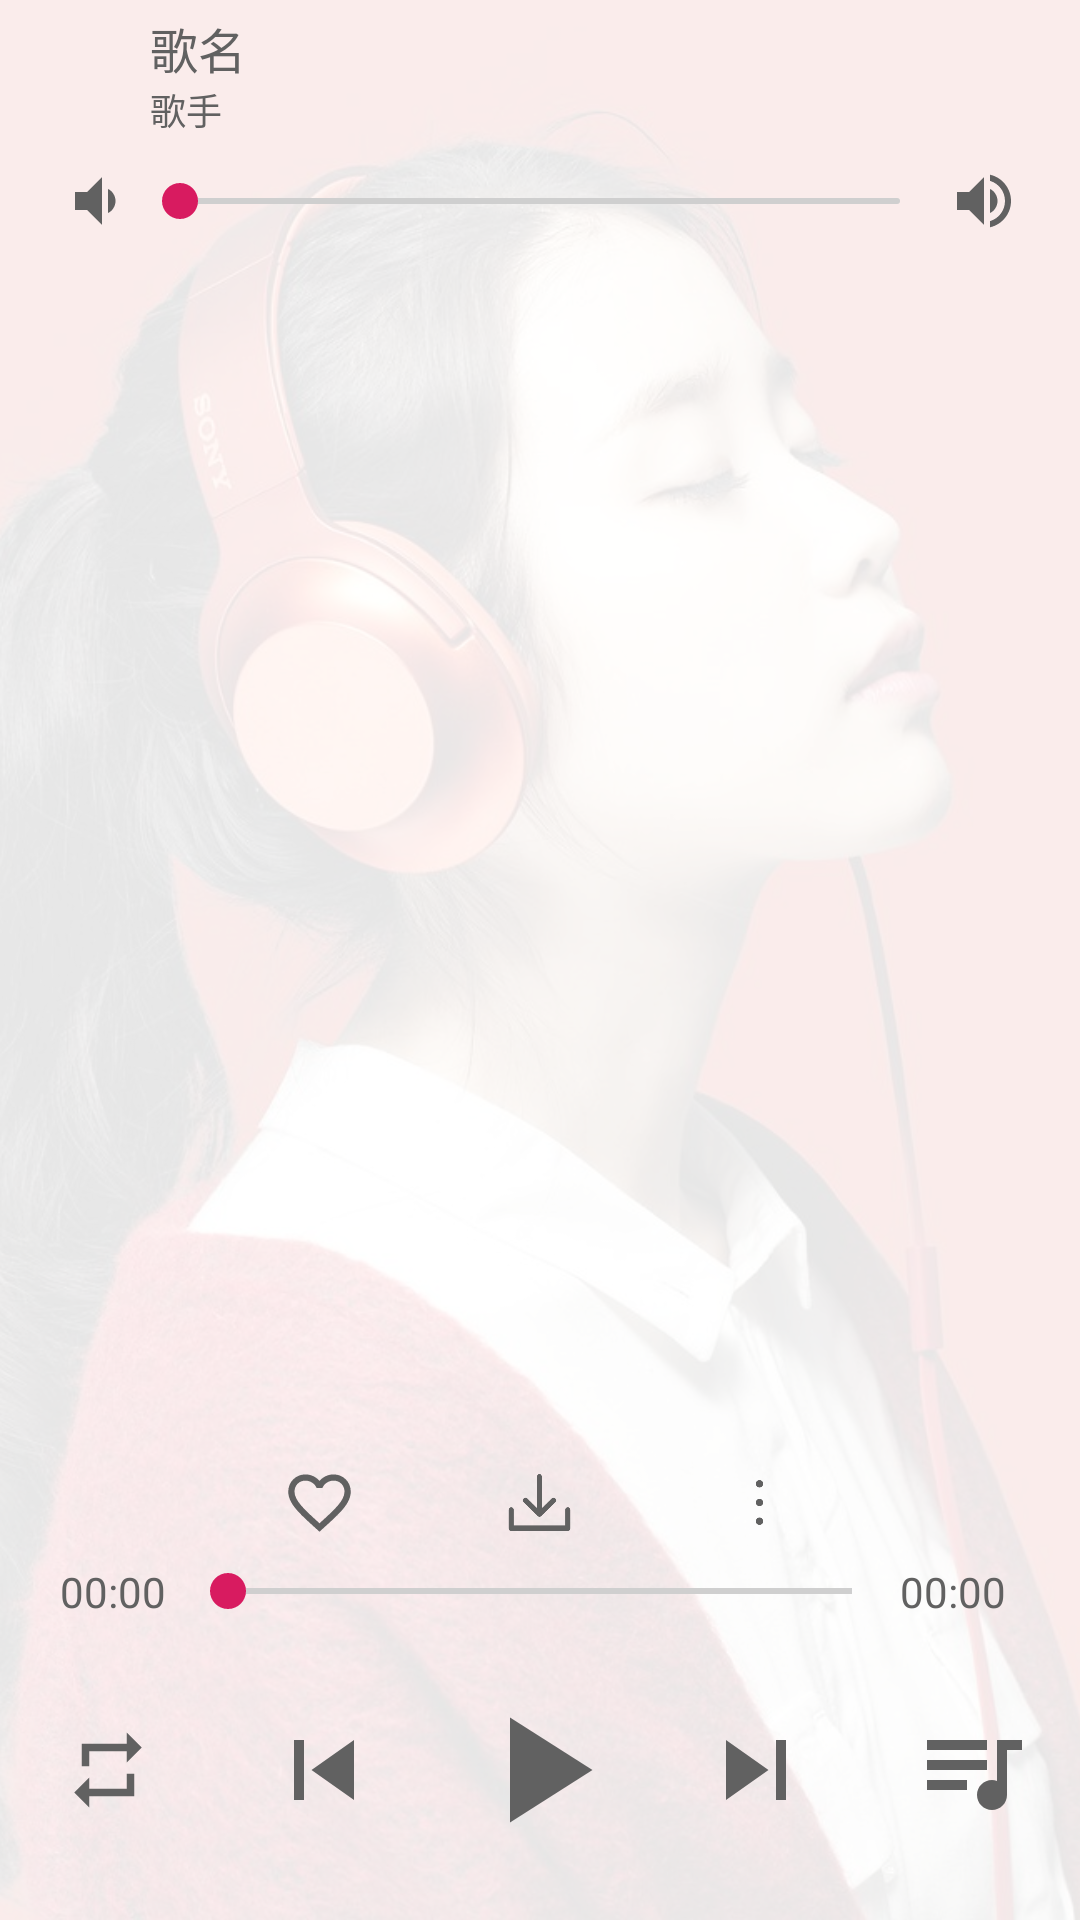

Screen size 1080 x 1920. Icon name, then its center in pixels as point (x, y):
download no: point (539, 1502)
favorite no: point (319, 1503)
next: point (756, 1770)
order play: point (108, 1770)
play: point (551, 1770)
playlist: point (974, 1775)
previous: point (324, 1770)
volume down: point (95, 201)
volume up: point (984, 201)
